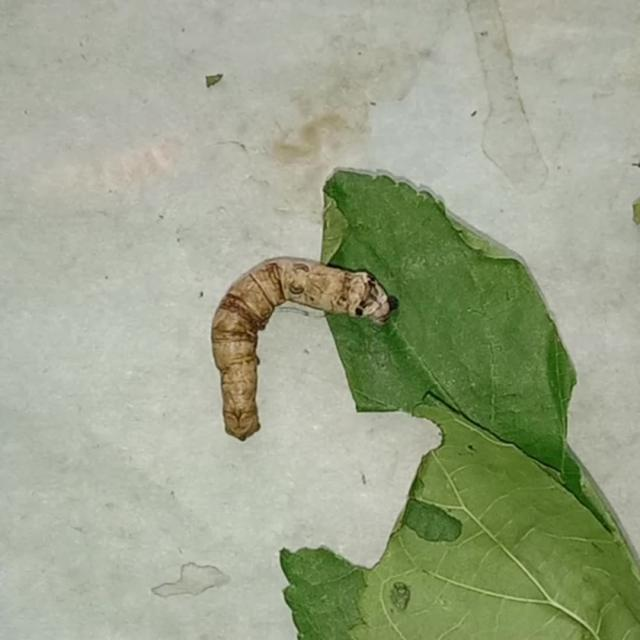Grasserie: (200, 241, 401, 449)
